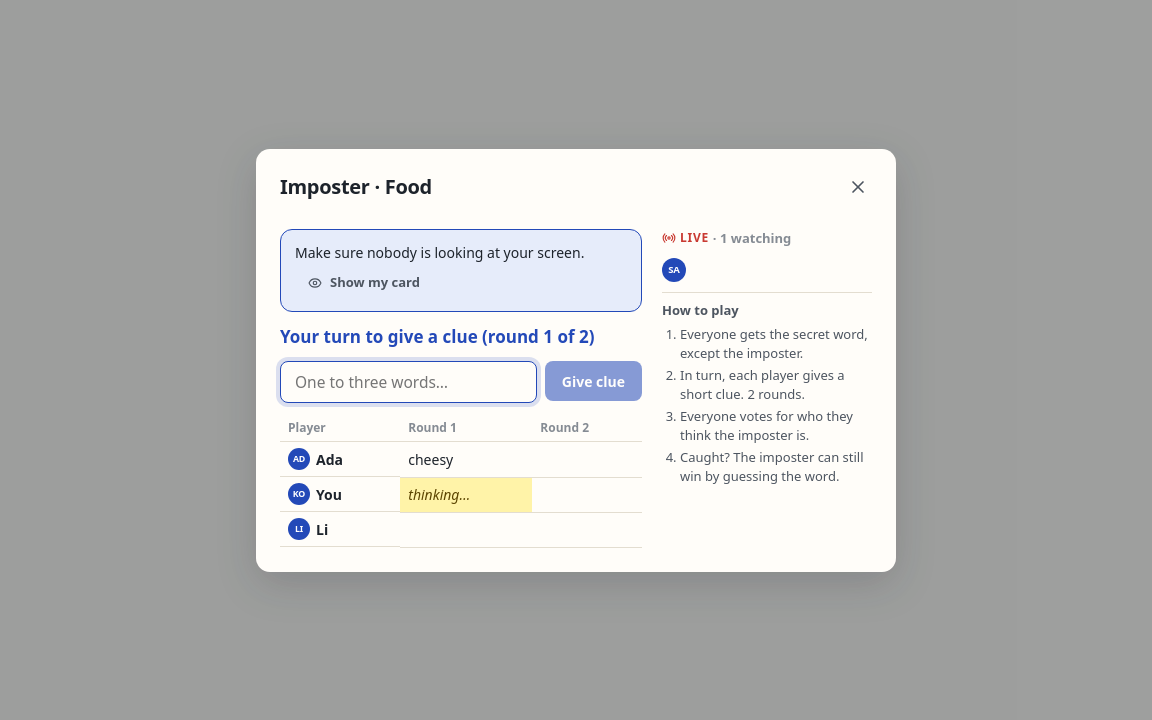
Scenario: <ImposterModal> › hides the secret card until asked, and gives the player whose turn it is a clue box
The image size is (1152, 720).
Expected: the text "pizza" is not shown
Click the button "Show my card" at (364, 282), box [295,266,433,298]
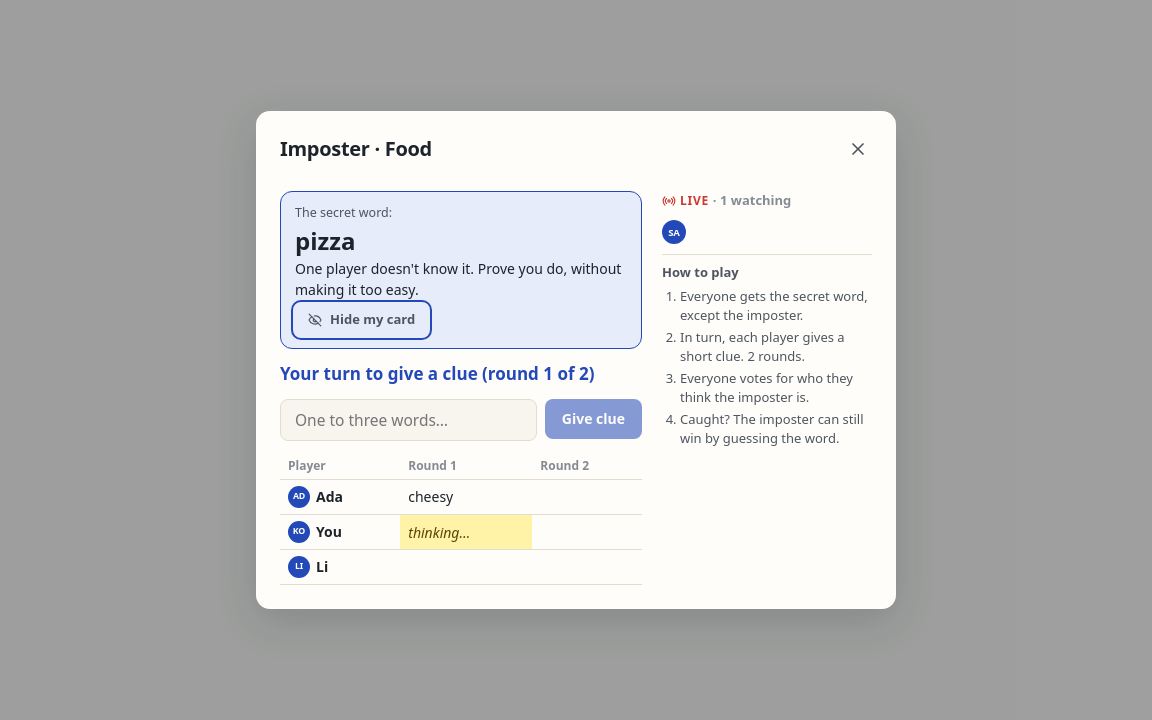
Expected: the text "pizza" is shown, [295,227,355,254]
Type "round" into the field named "Give clue" at (408, 420), box [280,399,537,441]
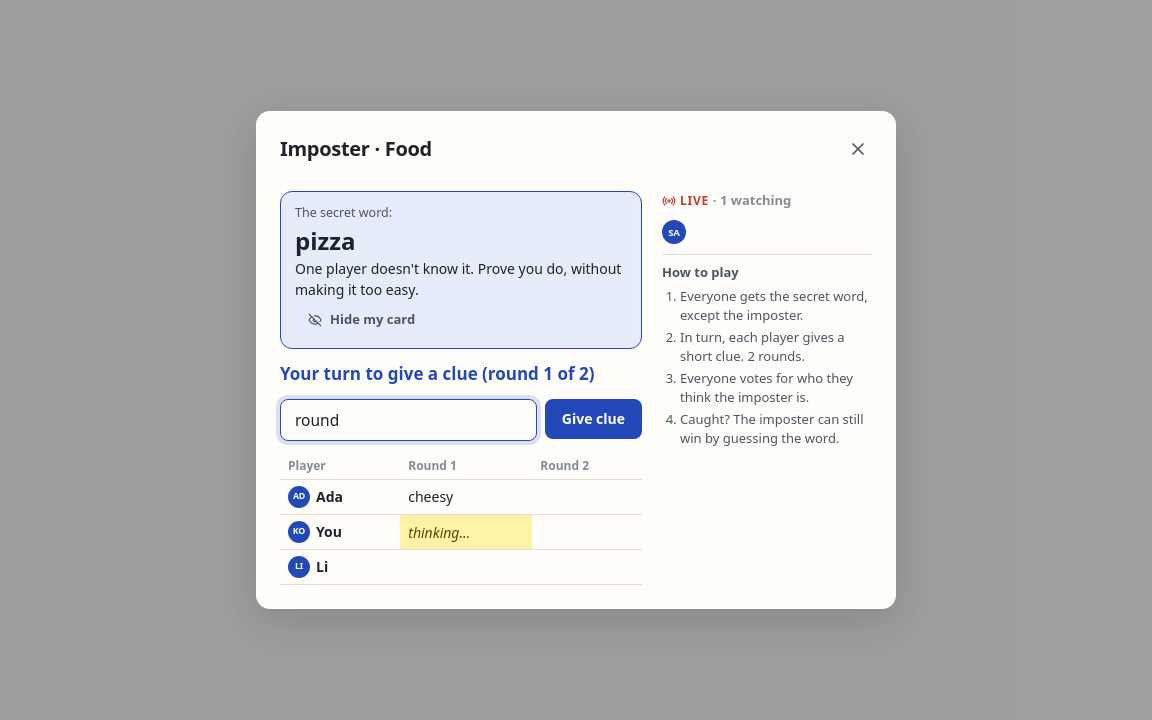
Click the button "Give clue" at (593, 419), box [545,399,642,439]
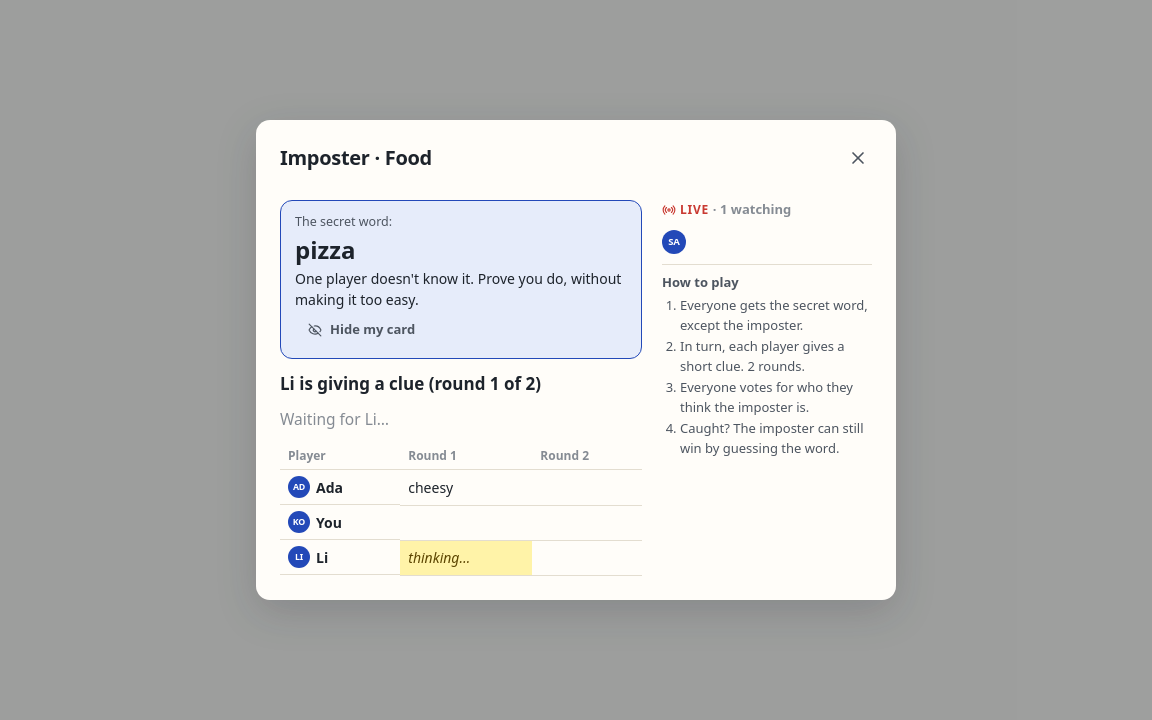
Expected: the text "Li is giving a clue (round 1 of 2)" is shown, [280,372,541,394]
